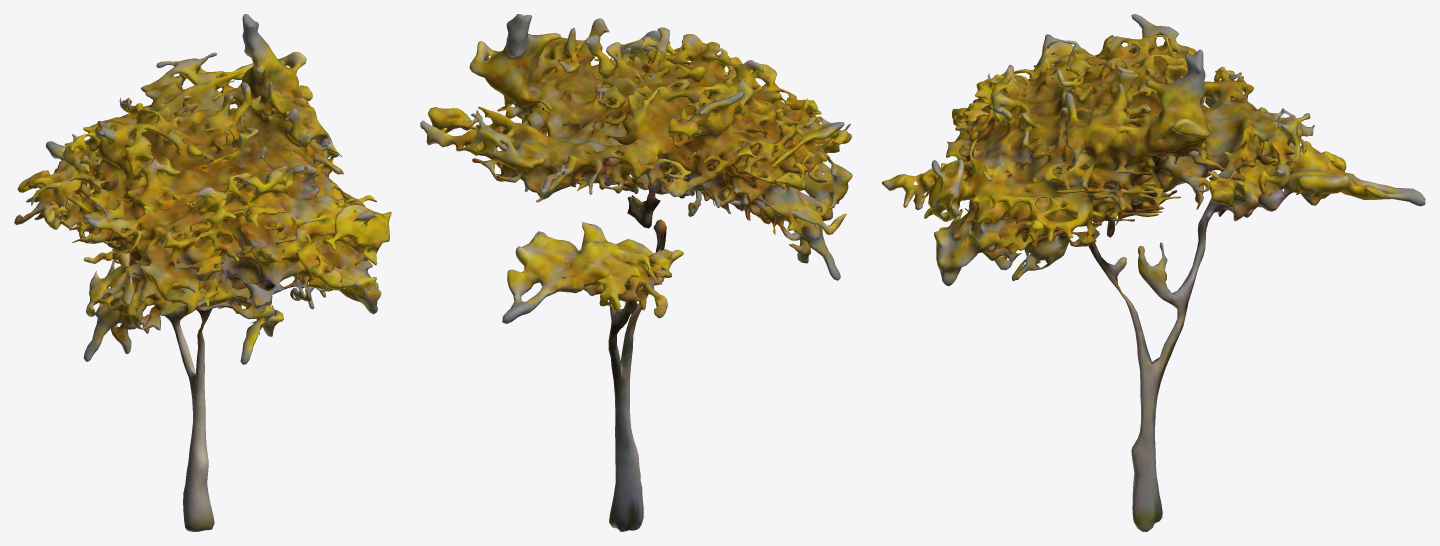
File: d60a716654db_dry_tree__with_few_.fbx
3 renders of one model, left to right at view 1: azimuth 30°, elevation 25°; view 2: azimuth 150°, elevation 25°; view 3: azimuth 270°, elevation 25°, orthographic. The views are drawn at different scales.
Parts seen in each view (by area): view 1: high_poly; view 2: high_poly; view 3: high_poly.
Boxes of the visible parts, left/top/right/bottom form: high_poly: left=14, top=14, right=391, bottom=531; high_poly: left=420, top=14, right=852, bottom=531; high_poly: left=881, top=14, right=1425, bottom=531.
Bounding box in the file's own units: 66.61 × 100 × 95.93.
